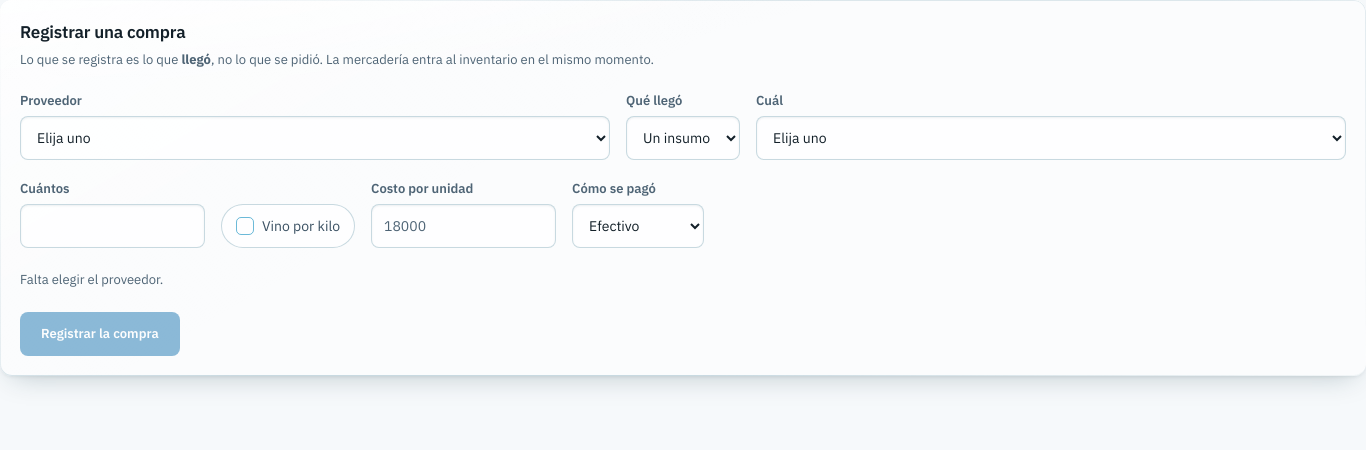
RegistrarCompra — el vencimiento solo a crédito (RN-PRO-07) › a crédito avisa que va a aparecer en vencidas
Select "Crédito" in the dropdown labelled "Cómo se pagó" at (638, 226), box [572,204,704,248]
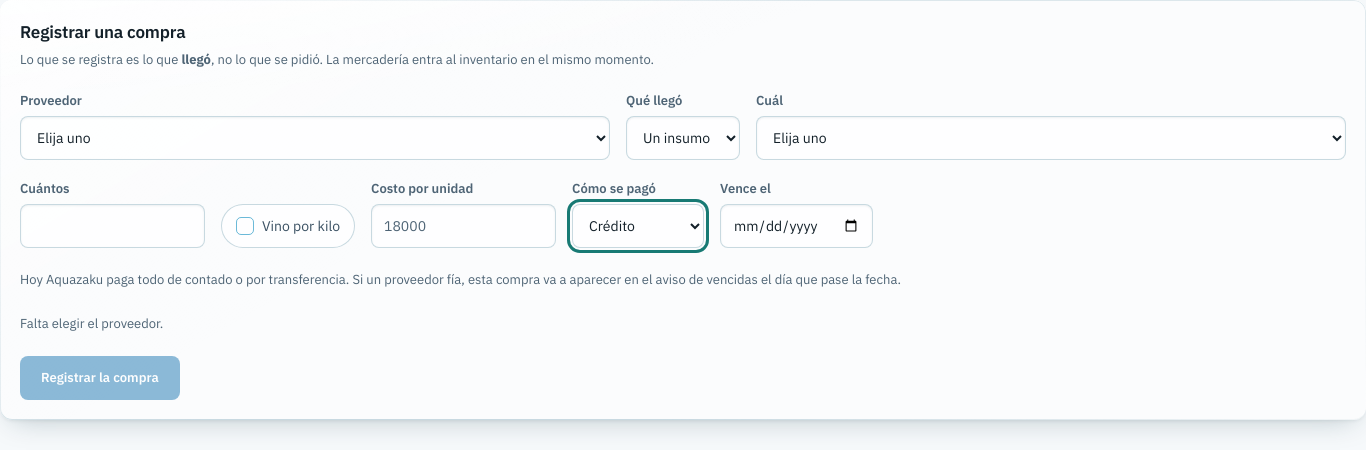
Now the text "aviso de vencidas" is shown, box [20,271,901,288]
